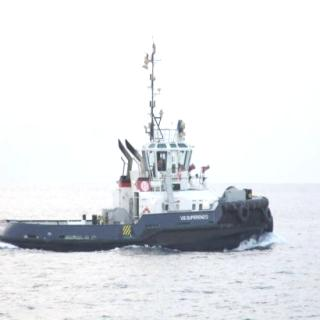Tug Boat: (4, 127, 277, 250)
